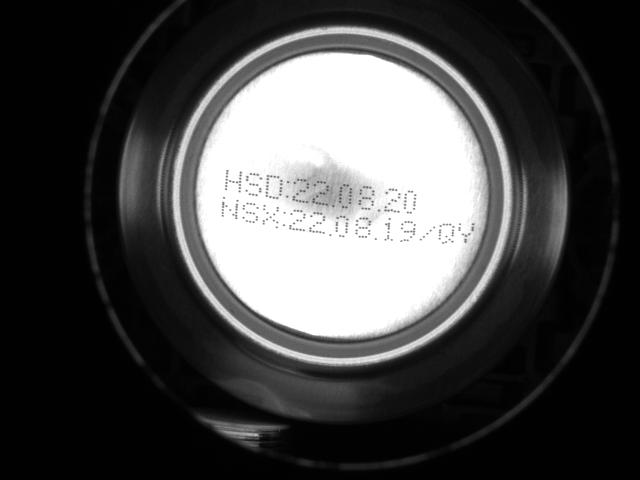.: (330, 191, 336, 208), (327, 221, 333, 238), (375, 196, 381, 213), (373, 225, 379, 242)
/: (418, 222, 436, 247)
0: (336, 181, 353, 210), (333, 212, 350, 241), (401, 186, 418, 215)
1: (380, 215, 395, 243)
2: (290, 176, 310, 204), (310, 178, 330, 206), (288, 204, 308, 232), (307, 208, 327, 236), (382, 185, 402, 213)
8: (357, 183, 376, 212), (354, 213, 373, 242)
9: (398, 219, 418, 245)
:: (284, 177, 290, 202), (281, 207, 287, 232)
D: (263, 171, 284, 201)
H: (222, 167, 243, 194)
N: (219, 195, 239, 222)
Q: (437, 220, 456, 247)
S: (243, 170, 265, 199), (238, 197, 260, 226)
X: (261, 202, 280, 231)
Y: (458, 218, 476, 250)
